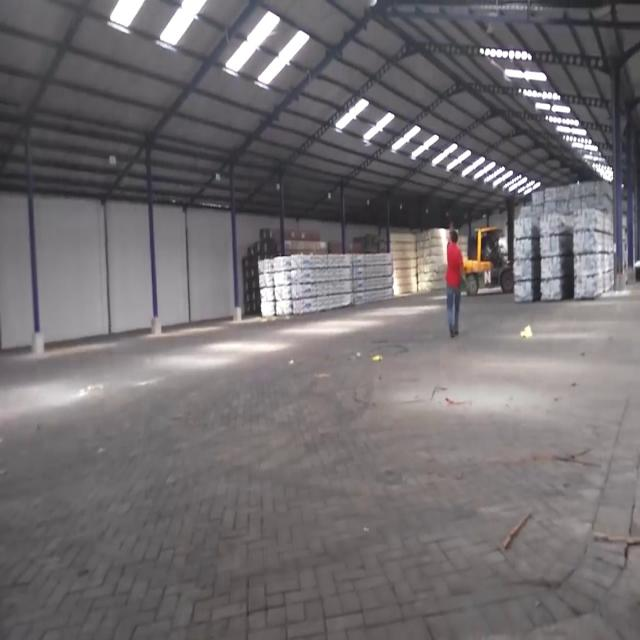Chariot elevateur: (459, 220, 517, 302)
